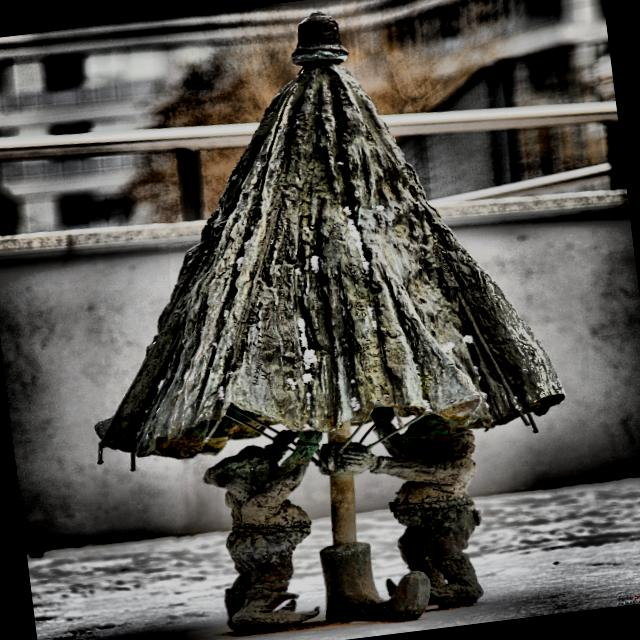Parasolniki: (94, 10, 564, 631)
